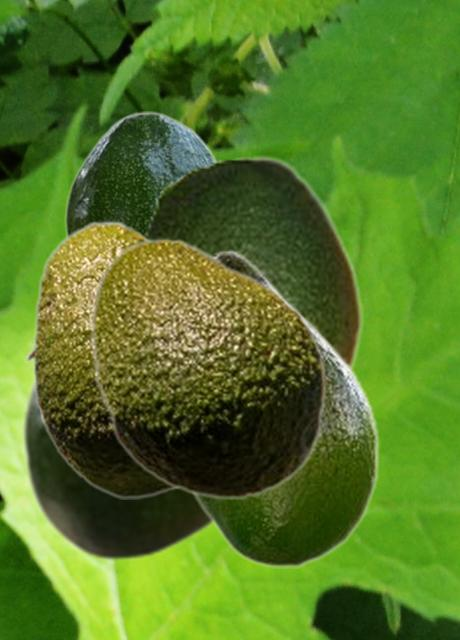avocado: (89, 237, 326, 500), (187, 249, 379, 567), (142, 155, 362, 370), (24, 220, 178, 498), (20, 372, 214, 561), (64, 111, 218, 234)
